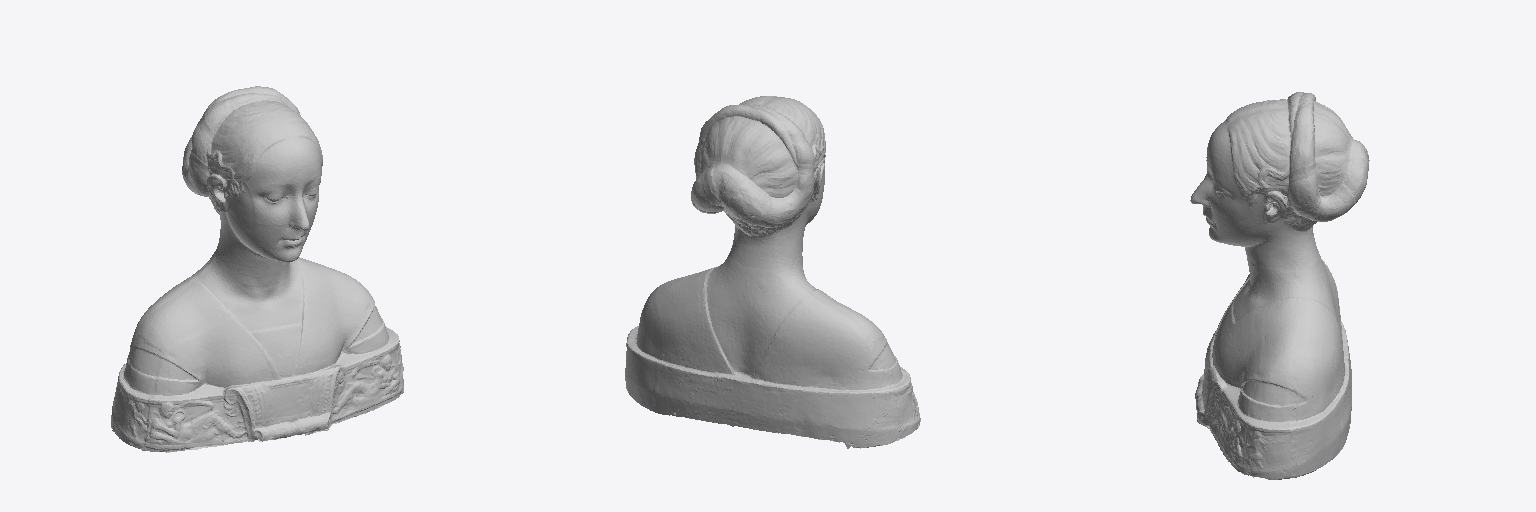
Rendered from Laurana50k.obj.
3 views of the same model, side by side, from view 1: azimuth 30°, elevation 25°; view 2: azimuth 150°, elevation 25°; view 3: azimuth 270°, elevation 25° (orthographic).
Bounding box in the file's own units: 467 × 502 × 259.